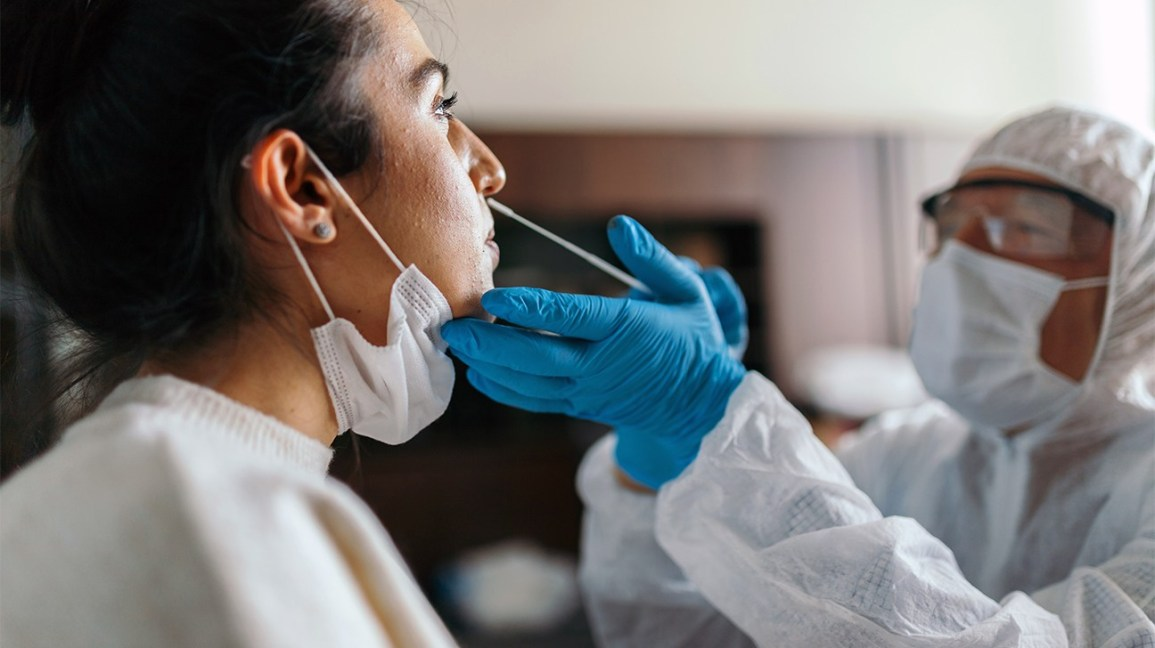Gloves: (436, 210, 750, 481)
Goggles: (903, 179, 1116, 263)
mask_weared_incorrect: (308, 62, 505, 452)
with_mask: (904, 208, 1079, 458)
